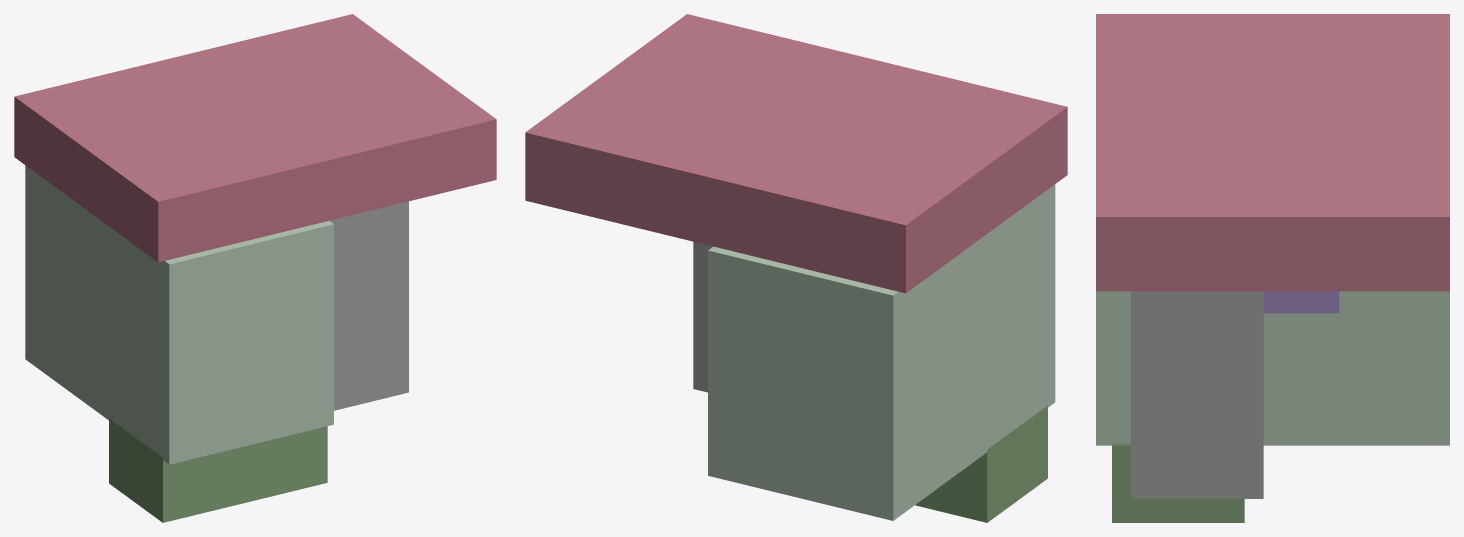
File: 199502_pred.glb
The picture shows the model from 3 angles, left to right: view 1: azimuth 30°, elevation 25°; view 2: azimuth 150°, elevation 25°; view 3: azimuth 270°, elevation 25°; orthographic projection. The views are drawn at different scales.
Parts seen in each view (by area): view 1: world; view 2: world; view 3: world.
Boxes of the visible parts, x1,y1,x2,y2 form: world: (14,14,496,522); world: (525,14,1067,522); world: (1096,14,1449,522).
Size of the model in its own units: 7.6 by 7.05 by 5.6.
